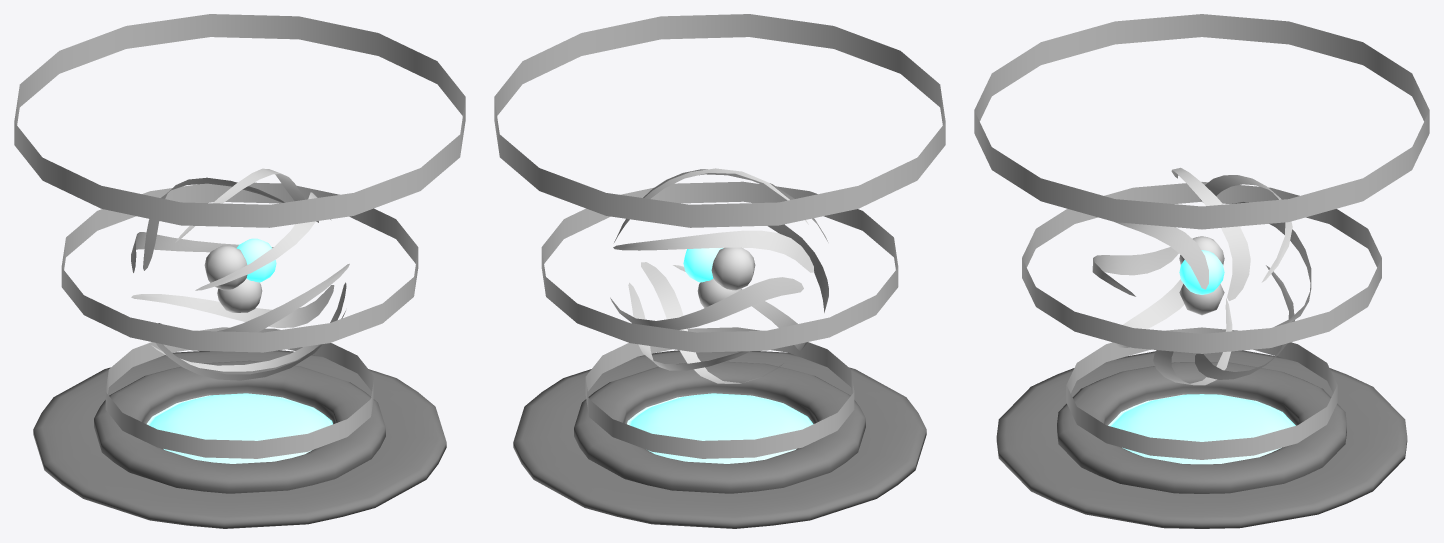
3 renders of one model, left to right at view 1: azimuth 30°, elevation 25°; view 2: azimuth 150°, elevation 25°; view 3: azimuth 270°, elevation 25°, orthographic.
Visible parts, largest first — view 1: Cylinder.012, Cylinder.013, Cylinder.015, Cylinder.014, Sphere, Sphere.001, Sphere.002, Sphere.006, Sphere.004; view 2: Cylinder.012, Cylinder.013, Cylinder.015, Cylinder.014, Sphere.001, Sphere, Sphere.002, Sphere.004, Sphere.006; view 3: Cylinder.012, Cylinder.013, Cylinder.015, Cylinder.014, Sphere.001, Sphere, Sphere.004, Sphere.006.
Boxes of the visible parts, x1,y1,x2,y2 form: Cylinder.012: (33,350,446,528); Cylinder.013: (14,14,465,227); Cylinder.015: (61,182,418,352); Cylinder.014: (105,327,374,458); Sphere: (131,177,345,380); Sphere.001: (131,168,349,371); Sphere.002: (204,245,247,290); Sphere.006: (217,278,262,312); Sphere.004: (237,238,276,282); Cylinder.012: (513,350,926,528); Cylinder.013: (494,14,945,227); Cylinder.015: (541,181,898,352); Cylinder.014: (585,327,854,458); Sphere.001: (610,168,828,383); Sphere: (613,169,828,370); Sphere.002: (711,247,755,290); Sphere.004: (683,248,722,282); Sphere.006: (697,278,741,307); Cylinder.012: (996,350,1407,528); Cylinder.013: (974,14,1429,229); Cylinder.015: (1022,182,1381,353); Cylinder.014: (1066,327,1337,459); Sphere.001: (1092,167,1311,385); Sphere: (1115,175,1294,379); Sphere.004: (1179,250,1224,294); Sphere.006: (1179,284,1224,315).
Bounding box in the file's own units: 588 × 478 × 588.
